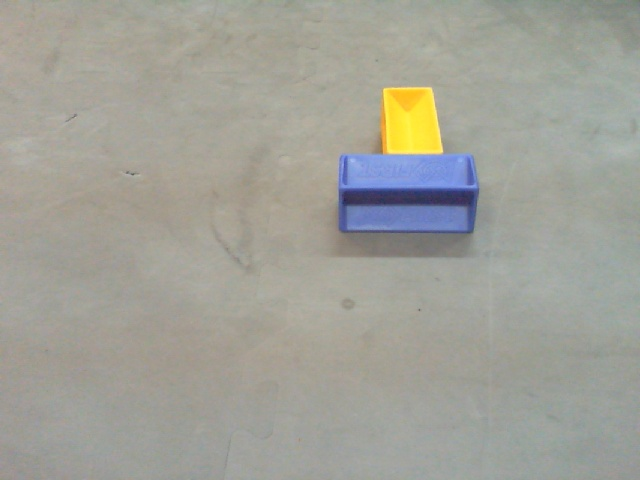BlueSample: (338, 153, 480, 235)
YellowSample: (381, 87, 445, 153)
